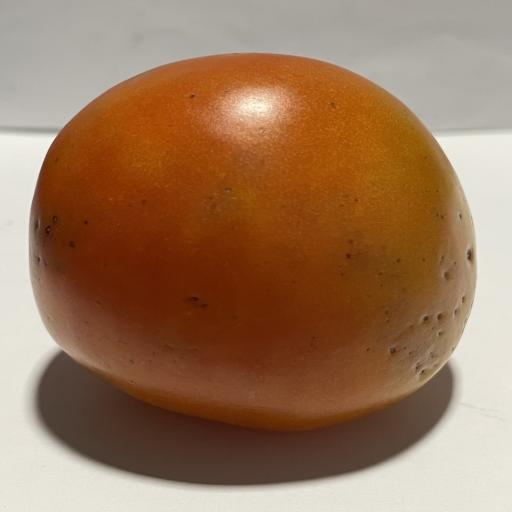ripe: (29, 53, 476, 430)
